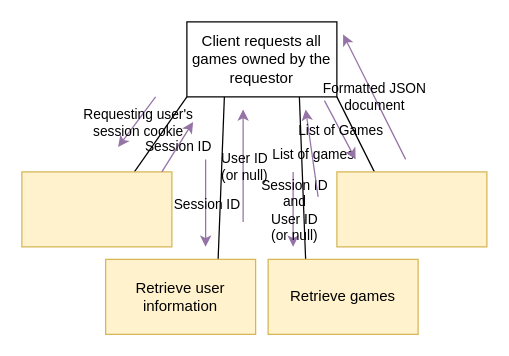
Some shapes in this 509 by 356 pixel diagram are drawn without their labels. Each missing label, with the centre of its shape:
Encode and respond to request: [411,209]
Retrieve session information: [96,209]
